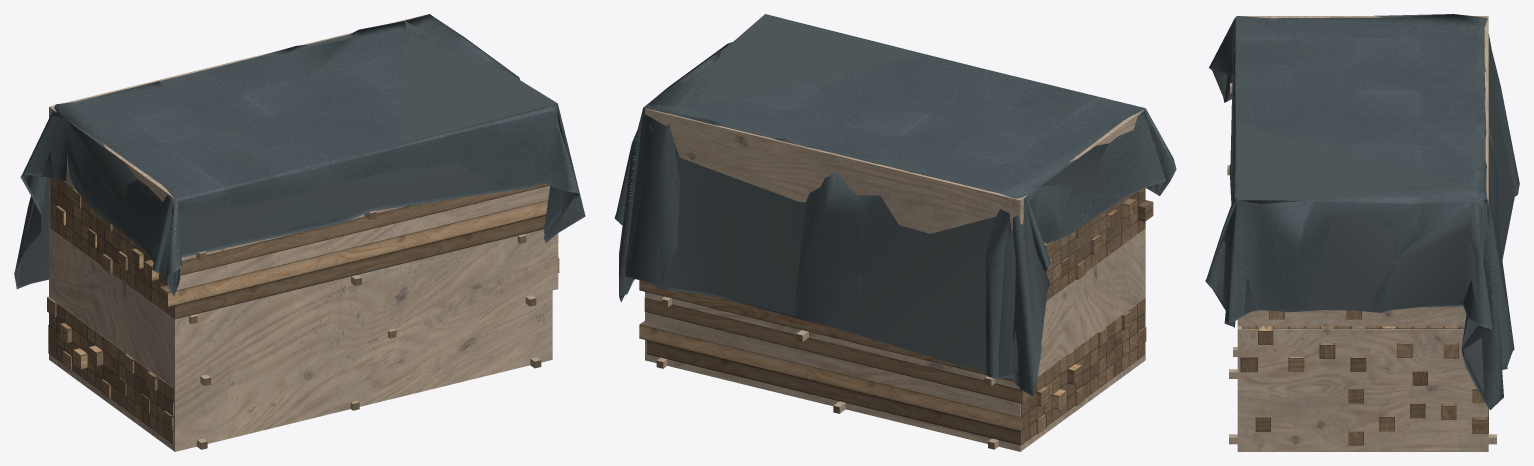
The model's file is wood_stack_b.DAE.
3 views of the same model, side by side, from view 1: azimuth 30°, elevation 25°; view 2: azimuth 150°, elevation 25°; view 3: azimuth 270°, elevation 25° (orthographic).
Visible parts, largest first — view 1: ind_wood_stack_b180, Colmesh-1, ind_wood_stack_b70, ind_wood_stack_b400; view 2: ind_wood_stack_b180, ind_wood_stack_b70, Colmesh-1, ind_wood_stack_b400; view 3: ind_wood_stack_b180, Colmesh-1, ind_wood_stack_b70, ind_wood_stack_b400.
Part boxes in pixels (box(x1,y1,x2,y2)): ind_wood_stack_b180: box(15, 14, 584, 449); Colmesh-1: box(49, 14, 558, 451); ind_wood_stack_b70: box(18, 14, 584, 443); ind_wood_stack_b400: box(14, 172, 585, 449); ind_wood_stack_b180: box(615, 42, 1174, 449); ind_wood_stack_b70: box(620, 14, 1164, 444); Colmesh-1: box(645, 108, 1145, 451); ind_wood_stack_b400: box(614, 159, 1176, 449); ind_wood_stack_b180: box(1206, 14, 1519, 444); Colmesh-1: box(1237, 16, 1488, 451); ind_wood_stack_b70: box(1207, 14, 1514, 393); ind_wood_stack_b400: box(1205, 66, 1518, 445).
Size of the model in its own units: 406 by 254 by 228.
